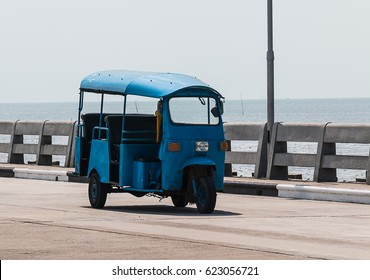threewheel: (72, 70, 227, 215)
